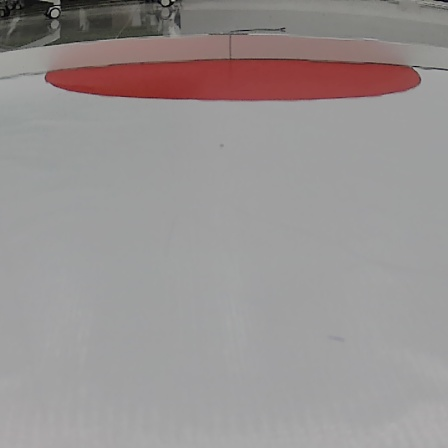red_base: (42, 58, 424, 102)
